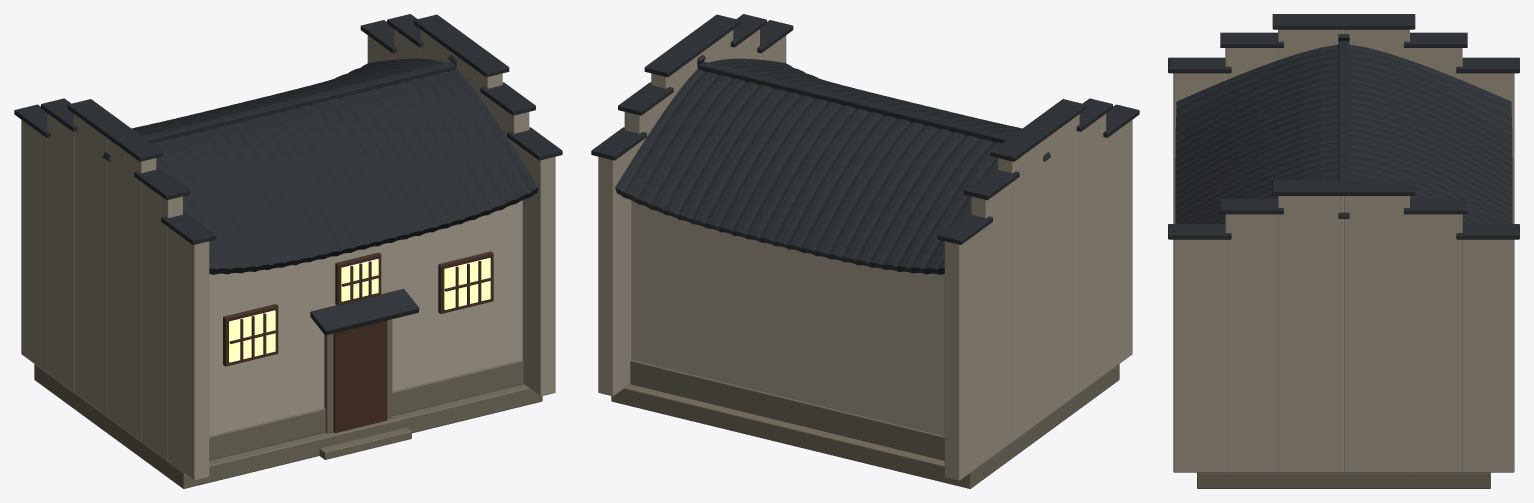
File: house_big.glb
3 renders of one model, left to right at view 1: azimuth 30°, elevation 25°; view 2: azimuth 150°, elevation 25°; view 3: azimuth 270°, elevation 25°, orthographic.
Parts seen in each view (by area): view 1: house_big; view 2: house_big; view 3: house_big.
Part boxes in pixels (x1,y1,x2,y2): house_big: [14, 14, 562, 488]; house_big: [591, 14, 1139, 488]; house_big: [1168, 14, 1519, 488].
Bounding box in the file's own units: 8.08 × 6.37 × 6.76.
